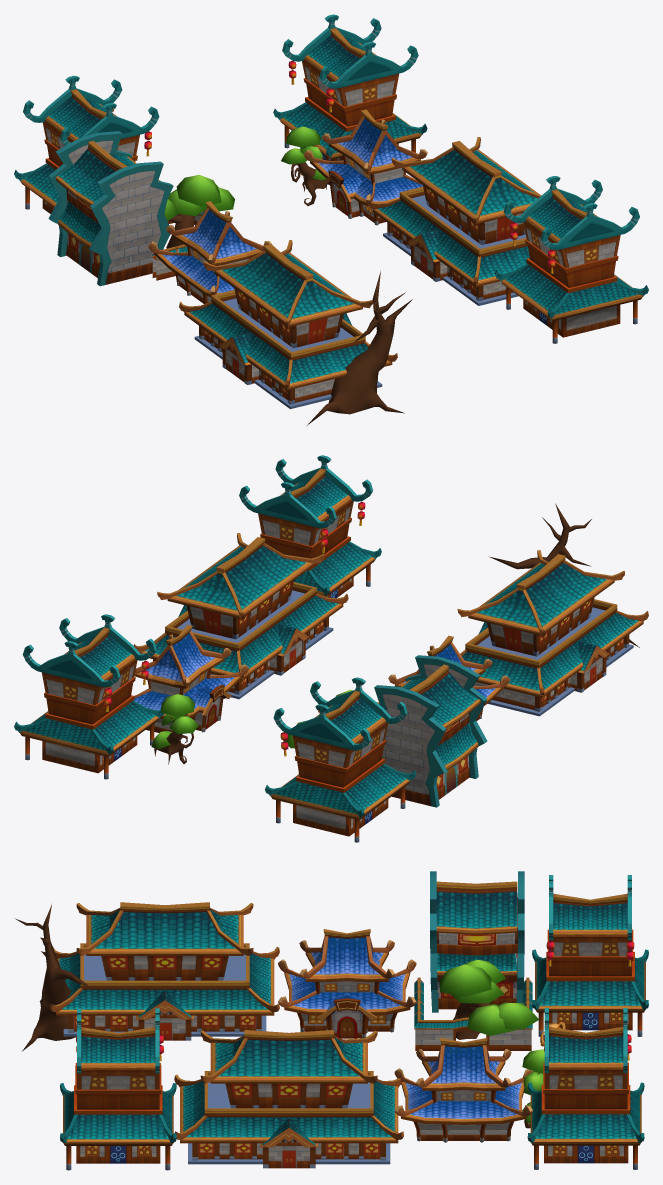
File: scenery_01.FBX
The picture shows the model from 3 angles, top to bottom: view 1: azimuth 30°, elevation 25°; view 2: azimuth 150°, elevation 25°; view 3: azimuth 270°, elevation 25°; orthographic projection. The views are drawn at different scales.
Parts seen in each view (by area): view 1: scenery_01; view 2: scenery_01; view 3: scenery_01.
Part boxes in pixels (x1,y1,x2,y2): scenery_01: (14, 14, 648, 425); scenery_01: (14, 455, 648, 842); scenery_01: (15, 871, 648, 1170).
Bounding box in the file's own units: 2450 × 3325 × 859.
